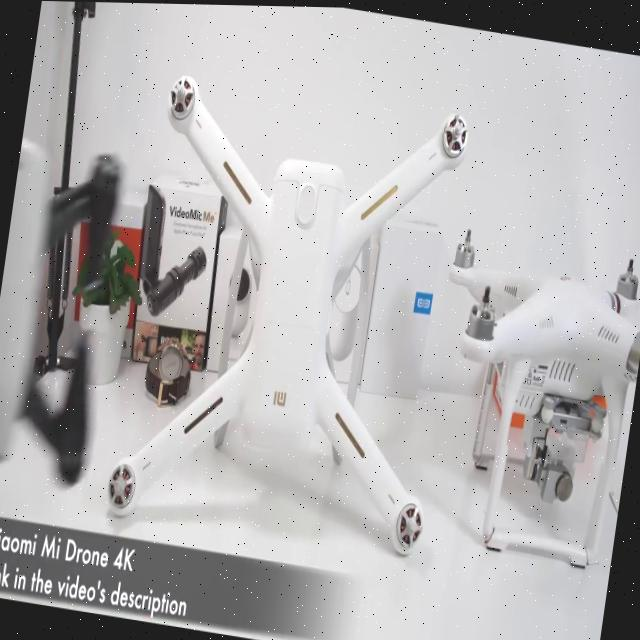drone: (78, 53, 512, 578)
